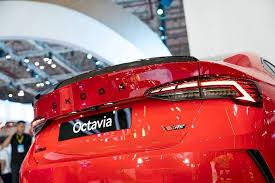skoda: (118, 83, 125, 90), (80, 92, 86, 99), (98, 88, 104, 94), (65, 98, 70, 103), (52, 102, 56, 108)
